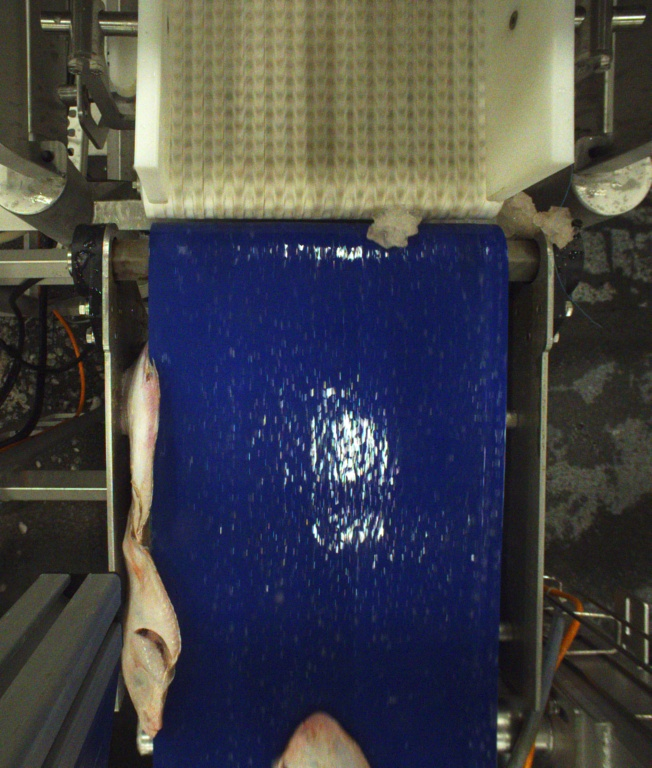SOL: (268, 709, 372, 768)
